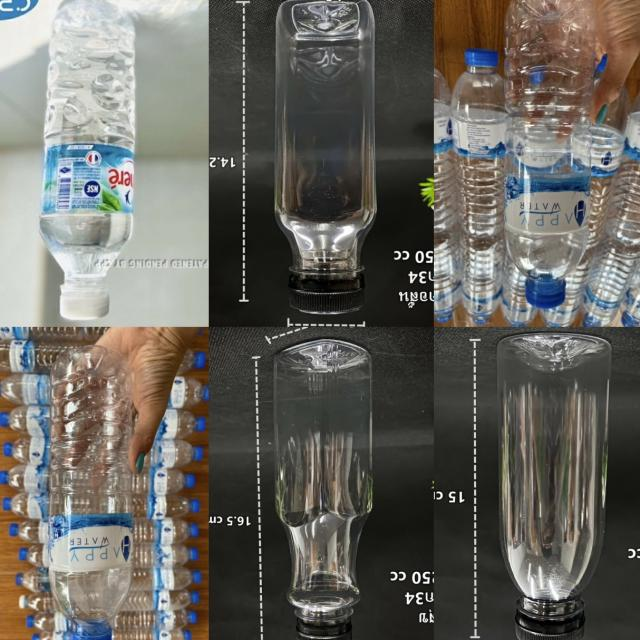plastik: (497, 333, 611, 640), (275, 0, 377, 315), (40, 0, 135, 320), (274, 338, 371, 640), (505, 0, 596, 308), (50, 347, 134, 640), (451, 50, 507, 238), (605, 93, 640, 246), (582, 237, 640, 327), (460, 232, 505, 324)
